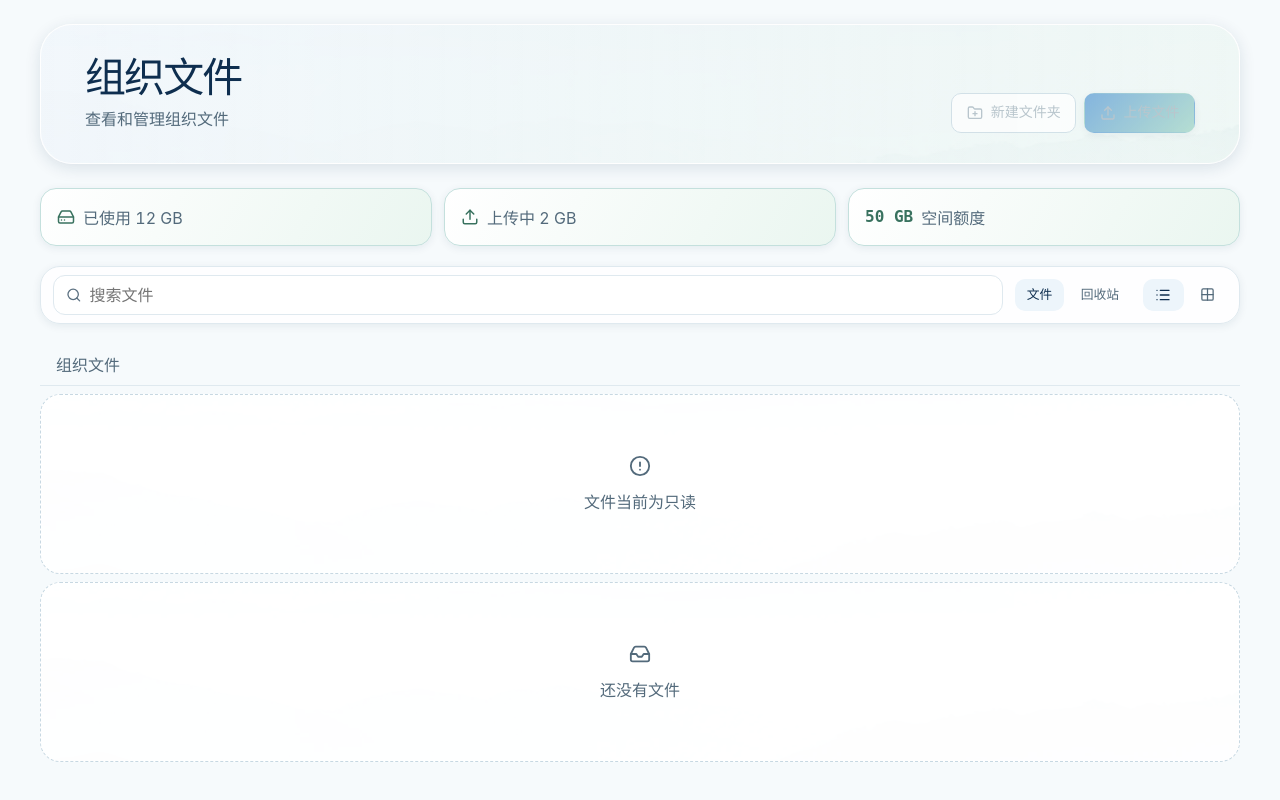
FilesPage › uses organization-scoped queries, metadata search and readonly controls
Expected: the heading "组织文件" is shown, [85,55,242,99]
Expected: the text "文件当前为只读" is shown, [584,489,696,513]
Step 1. Type "会议" into the search field labelled "搜索文件" → x=540, y=295, box [90,276,990,314]
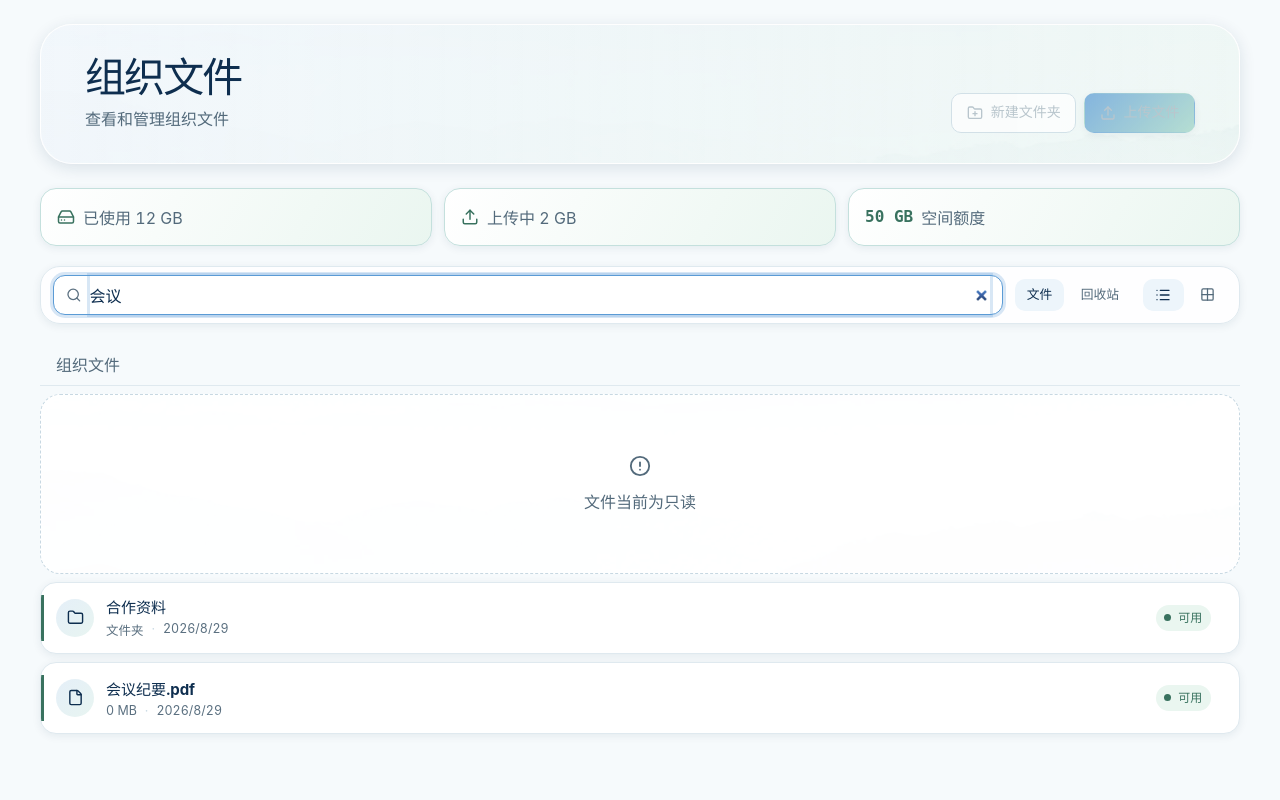
Now the text "会议纪要.pdf" is shown, box [106,680,195,699]
